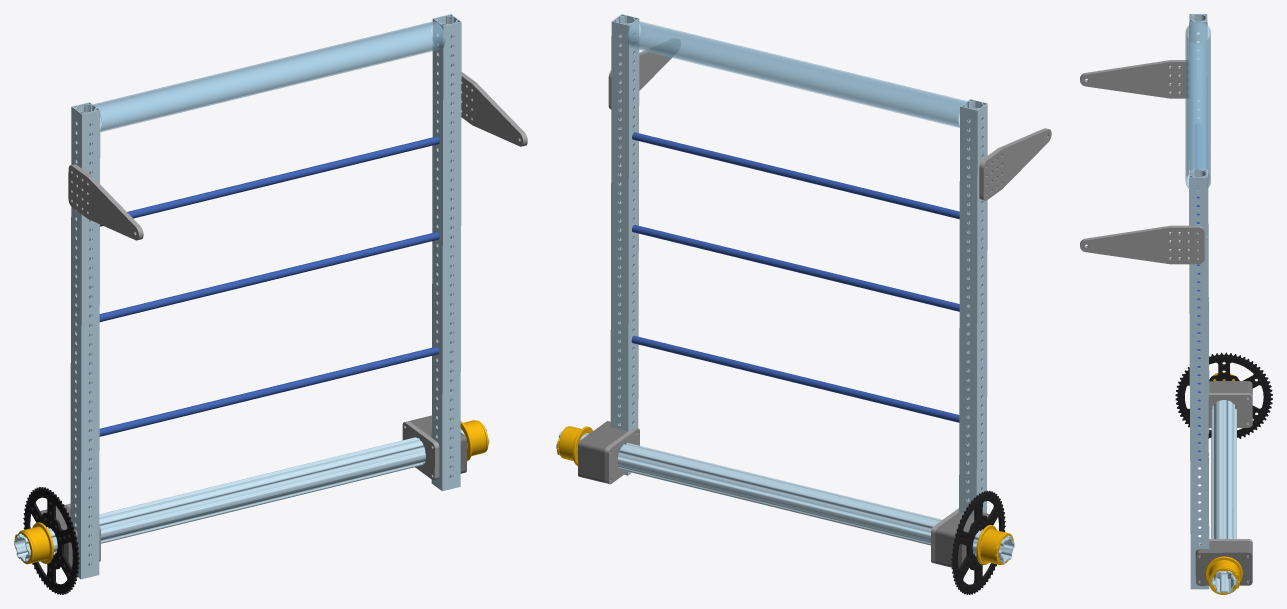
3 renders of one model, left to right at view 1: azimuth 30°, elevation 25°; view 2: azimuth 150°, elevation 25°; view 3: azimuth 270°, elevation 25°, orthographic. The views are drawn at different scales.
Visible parts, largest first — view 1: AUX-1-07, Tube 1"x1"x24.33", AUX-1-08, AUX-1-13, AUX-1-12 (×3), AUX-1-11 (×2), 64T #25 Plate Sprocket MAXSpline (REV-21-1972), 6338K314_Oil-Embedded Flanged Sleeve Bearing (×2), AUX-1-10; view 2: AUX-1-07, Tube 1"x1"x24.33", AUX-1-13, AUX-1-08, AUX-1-12 (×3), AUX-1-11 (×2), AUX-1-09 (×2), 64T #25 Plate Sprocket MAXSpline (REV-21-1972), 6338K314_Oil-Embedded Flanged Sleeve Bearing (×2), AUX-1-10; view 3: AUX-1-07, AUX-1-11 (×2), AUX-1-13, AUX-1-08, Tube 1"x1"x24.33", 64T #25 Plate Sprocket MAXSpline (REV-21-1972), AUX-1-09 (×2), AUX-1-10, 6338K314_Oil-Embedded Flanged Sleeve Bearing, AUX-1-12, 98585A130_Heavy Duty External Retaining Ring.
Boxes of the visible parts, x1,y1,x2,y2 form: AUX-1-07: [431, 14, 461, 491]; Tube 1"x1"x24.33": [70, 102, 100, 579]; AUX-1-08: [93, 21, 445, 131]; AUX-1-13: [14, 425, 489, 562]; AUX-1-12 (×3): [99, 136, 439, 436]; AUX-1-11 (×2): [68, 72, 527, 240]; 64T #25 Plate Sprocket MAXSpline (REV-21-1972): [23, 487, 79, 594]; 6338K314_Oil-Embedded Flanged Sleeve Bearing (×2): [19, 420, 486, 563]; AUX-1-10: [402, 421, 439, 480]; AUX-1-07: [610, 14, 639, 475]; Tube 1"x1"x24.33": [959, 99, 987, 515]; AUX-1-13: [556, 431, 1014, 563]; AUX-1-08: [627, 20, 966, 127]; AUX-1-12 (×3): [631, 132, 959, 422]; AUX-1-11 (×2): [608, 38, 1051, 200]; AUX-1-09 (×2): [578, 421, 989, 567]; 64T #25 Plate Sprocket MAXSpline (REV-21-1972): [951, 490, 1005, 594]; 6338K314_Oil-Embedded Flanged Sleeve Bearing (×2): [559, 426, 1006, 564]; AUX-1-10: [604, 427, 639, 484]; AUX-1-07: [1189, 169, 1209, 589]; AUX-1-11 (×2): [1080, 60, 1204, 264]; AUX-1-13: [1211, 400, 1236, 593]; AUX-1-08: [1185, 21, 1210, 190]; Tube 1"x1"x24.33": [1189, 14, 1209, 432]; 64T #25 Plate Sprocket MAXSpline (REV-21-1972): [1175, 352, 1272, 438]; AUX-1-09 (×2): [1195, 381, 1252, 585]; AUX-1-10: [1208, 393, 1252, 427]; 6338K314_Oil-Embedded Flanged Sleeve Bearing: [1205, 556, 1242, 593]; AUX-1-12: [1196, 123, 1201, 274]; 98585A130_Heavy Duty External Retaining Ring: [1208, 568, 1239, 594].
Bounding box in the file's own units: 0.6396 × 0.6488 × 0.2625.
